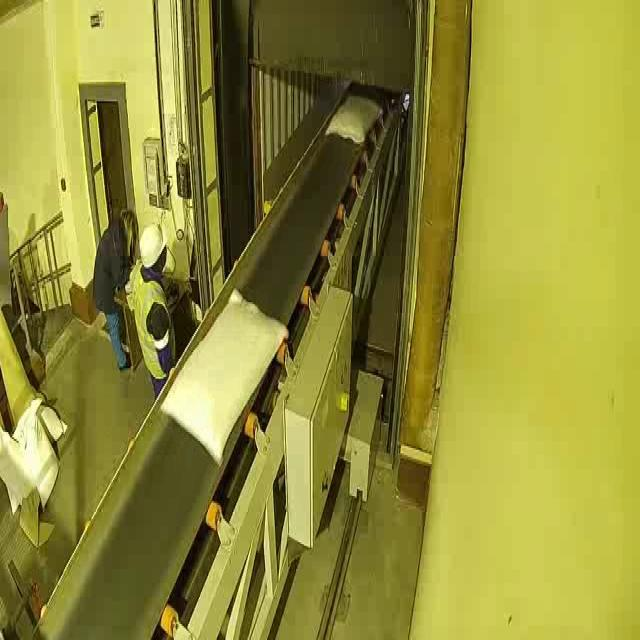bag: (157, 283, 289, 464), (324, 89, 382, 146)
